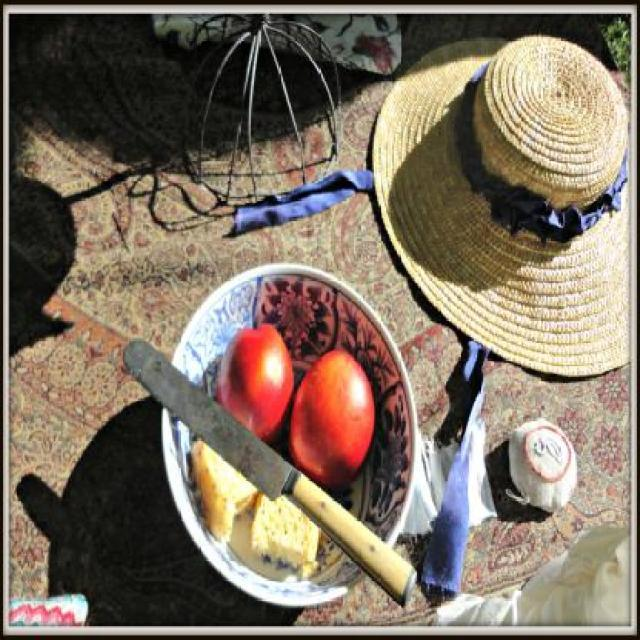Apple pie: (292, 364, 377, 494), (215, 318, 296, 440)
